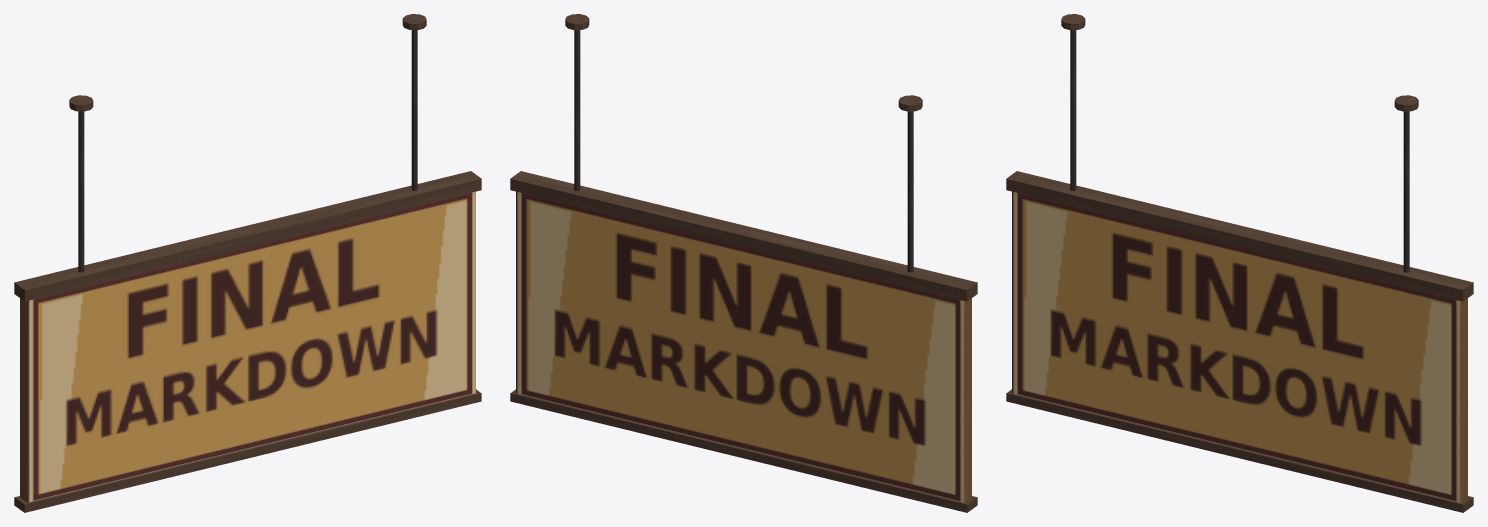
Rendered from sale_sign_final_markdown.glb.
3 views of the same model, side by side, from view 1: azimuth 30°, elevation 25°; view 2: azimuth 150°, elevation 25°; view 3: azimuth 330°, elevation 25° (orthographic).
Visible parts, largest first — view 1: Suspended Sale Sign; view 2: Suspended Sale Sign; view 3: Suspended Sale Sign.
Part boxes in pixels (left/top/right/bottom): Suspended Sale Sign: left=14, top=14, right=481, bottom=512; Suspended Sale Sign: left=510, top=14, right=977, bottom=512; Suspended Sale Sign: left=1006, top=14, right=1473, bottom=512.
Bounding box in the file's own units: 1.21 × 1 × 0.0533.
1 material, 1 textured.
